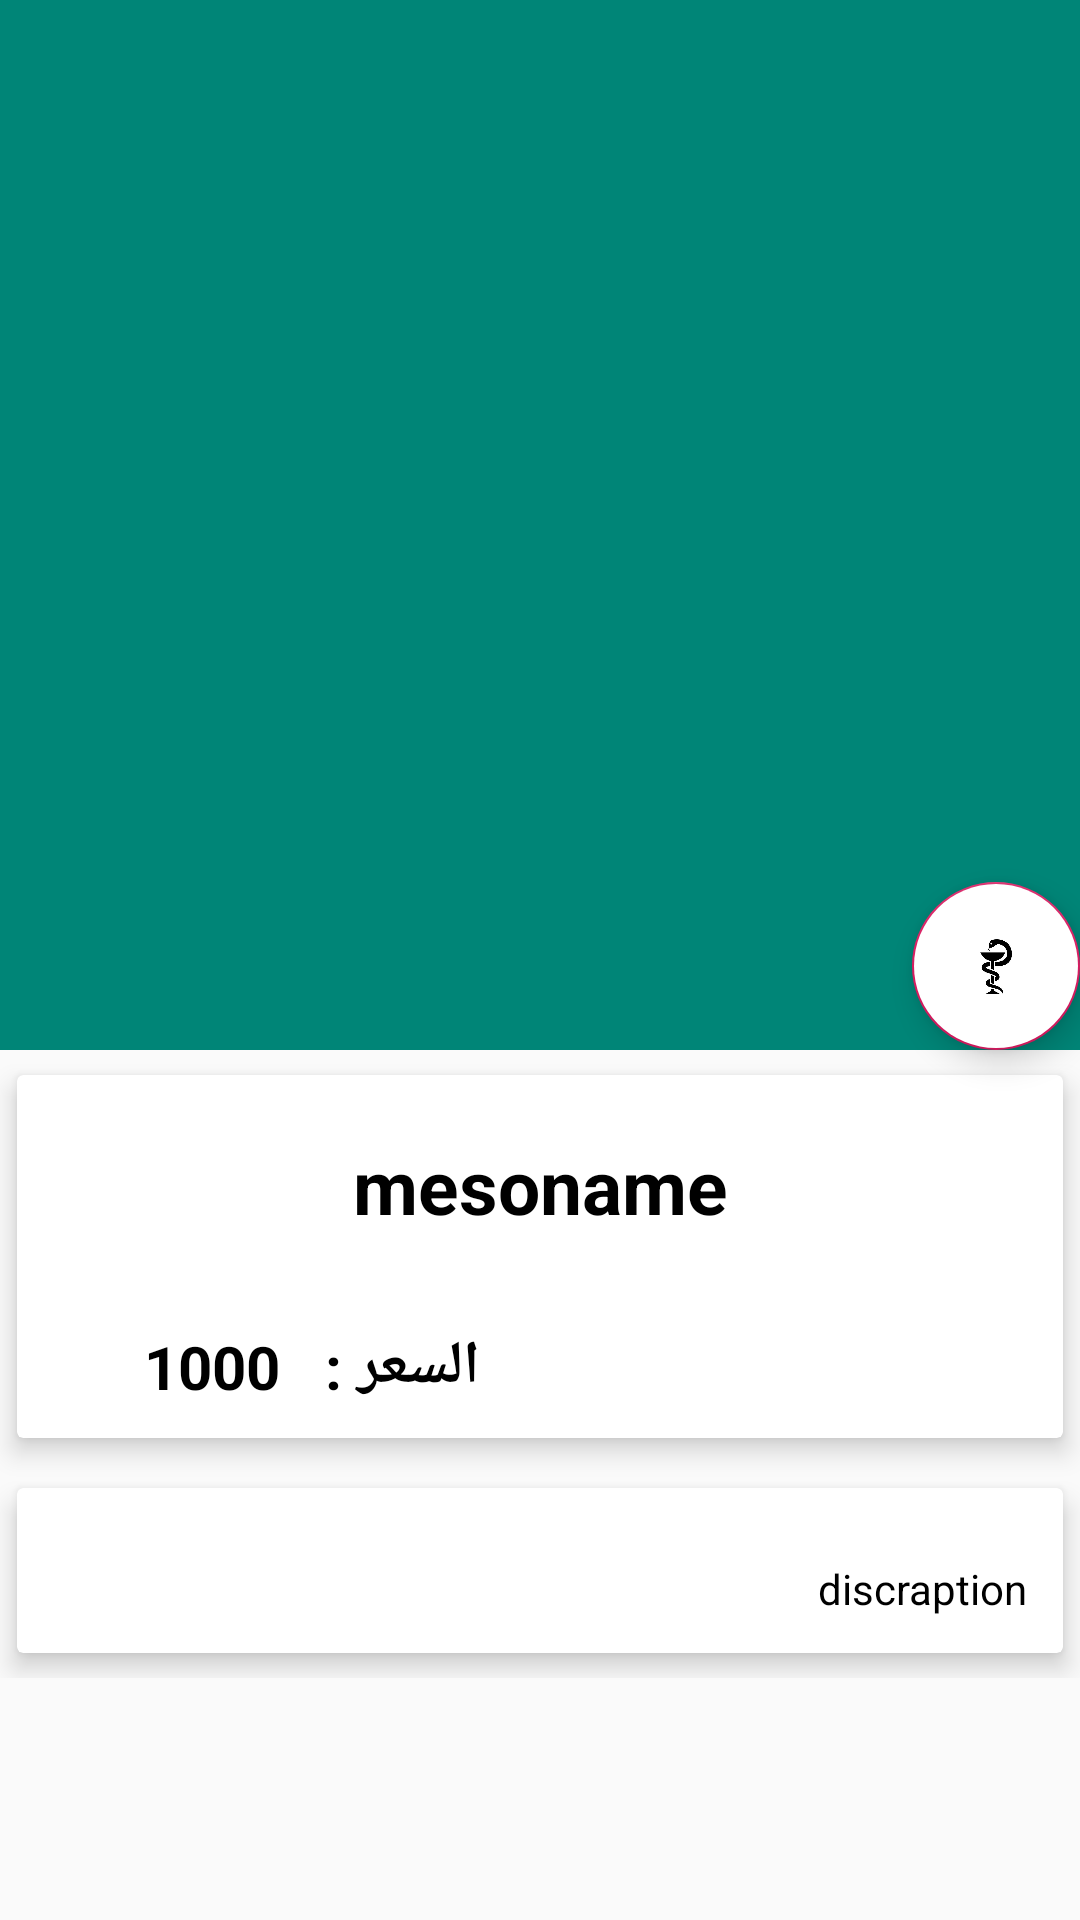

Icon click points for this 1080w x 1920h phone screenshot, format [x,y]:
snike: [996,966]
